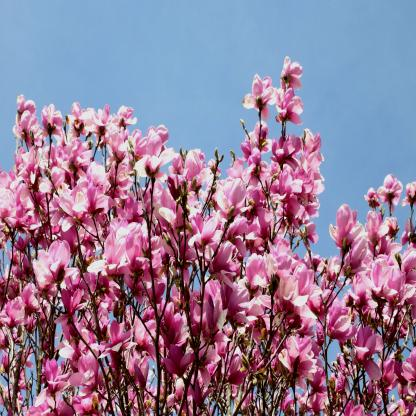Mokuren: (0, 55, 416, 416)
